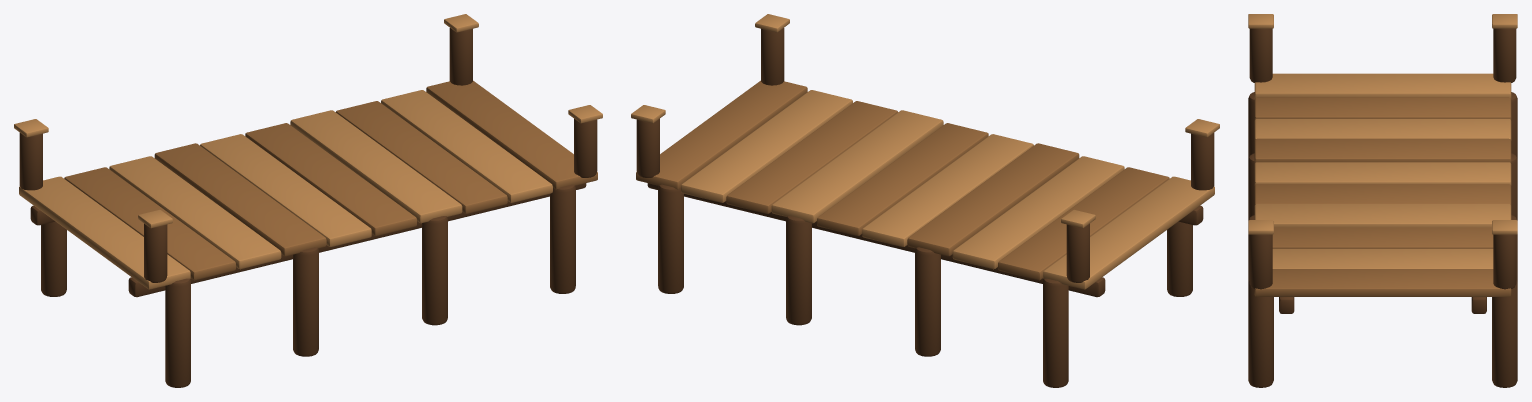
Rendered from DockPlank.glb.
3 views of the same model, side by side, from view 1: azimuth 30°, elevation 25°; view 2: azimuth 150°, elevation 25°; view 3: azimuth 270°, elevation 25° (orthographic).
Parts seen in each view (by area): view 1: DockPlank; view 2: DockPlank; view 3: DockPlank.
Part boxes in pixels (x1,y1,x2,y2): DockPlank: (14,14,602,387); DockPlank: (631,14,1219,387); DockPlank: (1248,14,1517,387).
Bounding box in the file's own units: 4 × 1.46 × 2.1.
